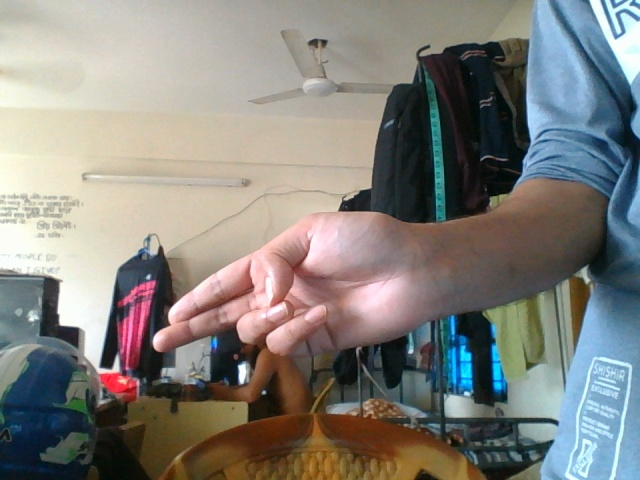ha: (150, 206, 511, 350)
